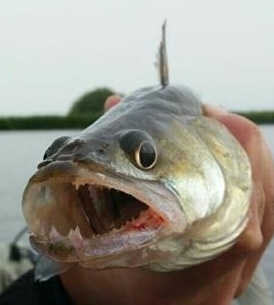Sander lucioperca: (20, 20, 254, 285)
